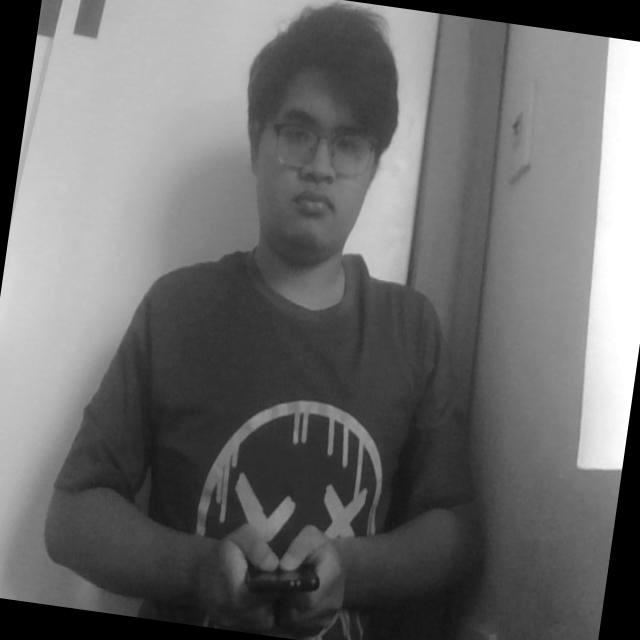phone: (230, 520, 330, 626)
